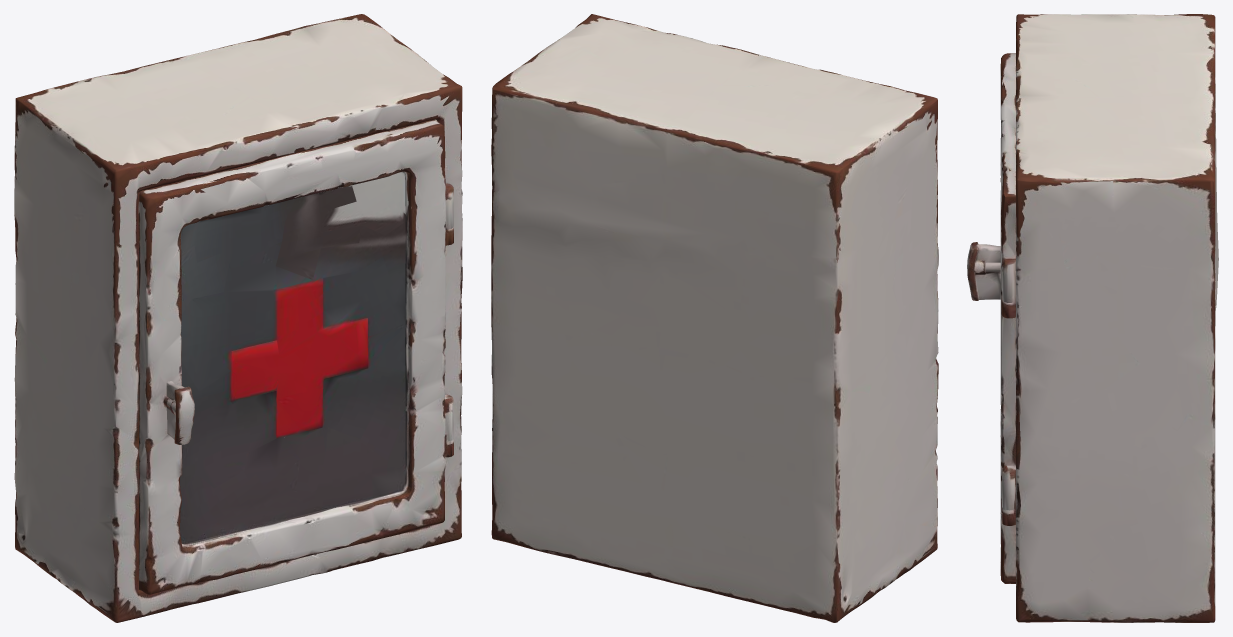
File: medicine_cabinet_vannyy.glb
3 views of the same model, side by side, from view 1: azimuth 30°, elevation 25°; view 2: azimuth 150°, elevation 25°; view 3: azimuth 270°, elevation 25° (orthographic). The views are drawn at different scales.
Visible parts, largest first — view 1: door, body; view 2: body; view 3: body, door.
Boxes of the visible parts, x1,y1,x2,y2 form: door: [133, 117, 452, 594]; body: [14, 14, 462, 622]; body: [491, 14, 938, 622]; body: [1002, 14, 1218, 622]; door: [967, 53, 1015, 583].
Bounding box in the file's own units: 0.4818 × 0.6 × 0.3075.
7 materials, 3 textured.
